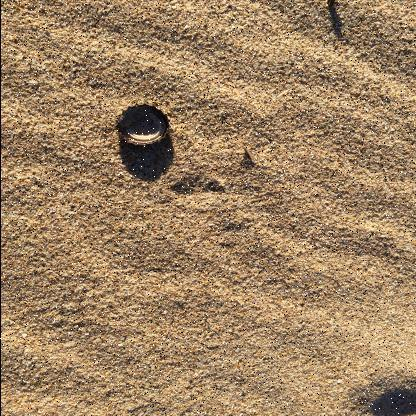metal: (114, 102, 170, 146)
